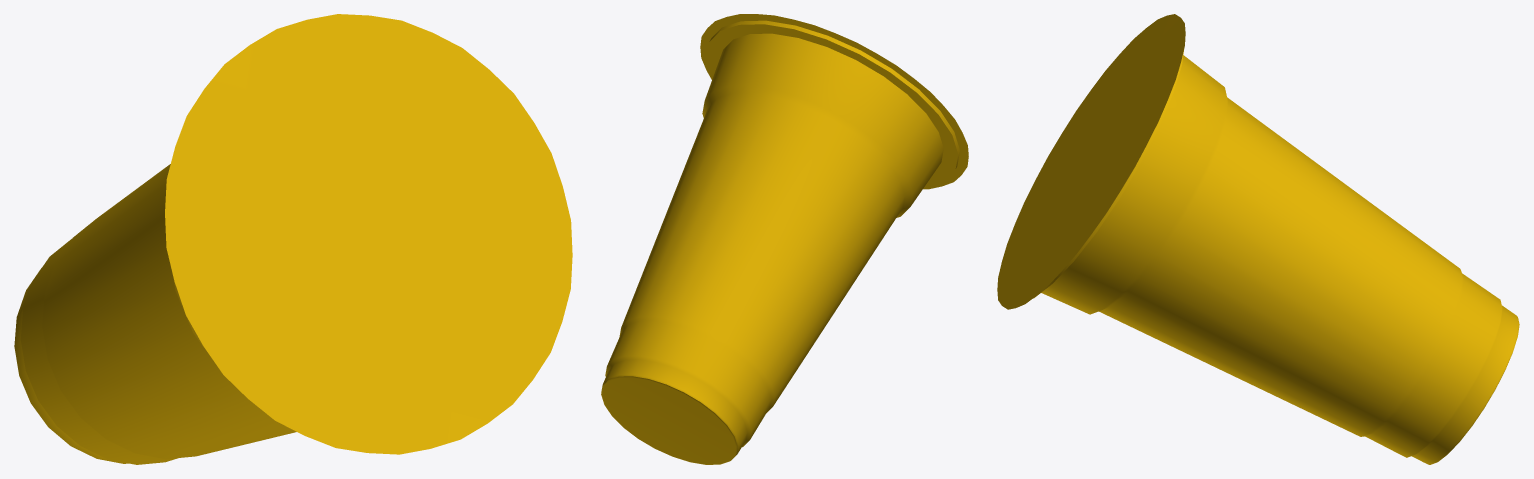
The model's file is ref_bfcornjuice.glb.
3 views of the same model, side by side, from view 1: azimuth 30°, elevation 25°; view 2: azimuth 150°, elevation 25°; view 3: azimuth 270°, elevation 25° (orthographic). The views are drawn at different scales.
Parts seen in each view (by area): view 1: ref_bfcornjuice; view 2: ref_bfcornjuice; view 3: ref_bfcornjuice.
Boxes of the visible parts, x1,y1,x2,y2 form: ref_bfcornjuice: (14, 14, 572, 464); ref_bfcornjuice: (601, 14, 968, 464); ref_bfcornjuice: (997, 14, 1519, 464).
Size of the model in its own units: 0.6506 by 0.892 by 1.
1 material, 1 textured.
